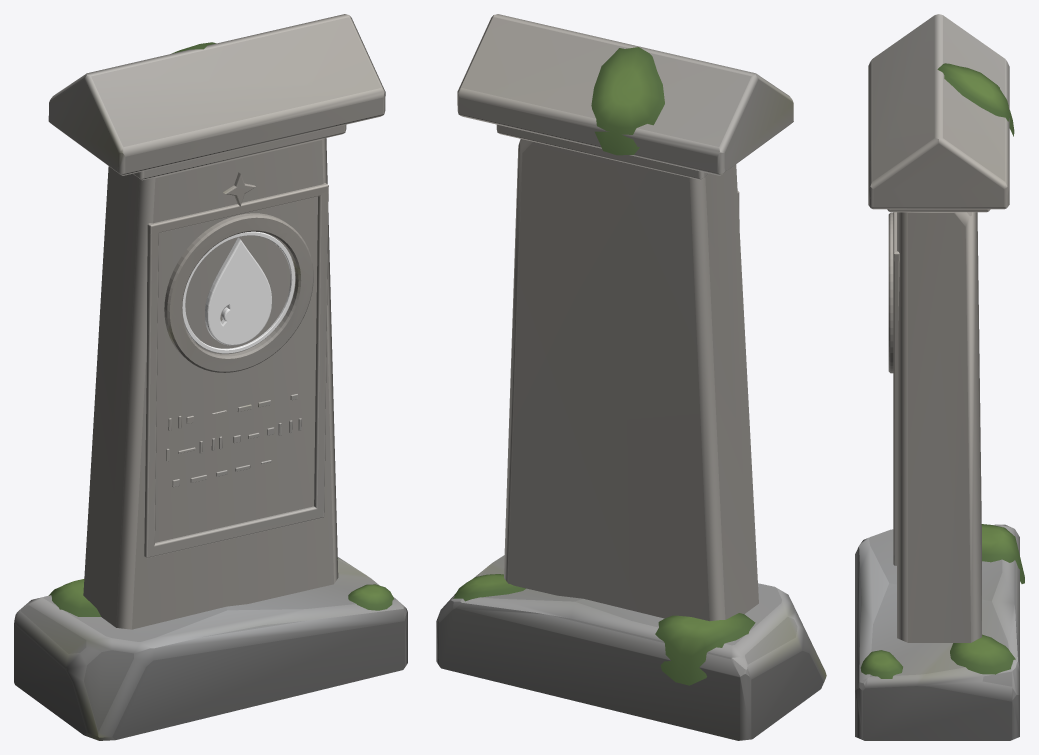
The model's file is stele_water.glb.
3 renders of one model, left to right at view 1: azimuth 30°, elevation 25°; view 2: azimuth 150°, elevation 25°; view 3: azimuth 270°, elevation 25°, orthographic. The views are drawn at different scales.
Parts seen in each view (by area): view 1: stele_water_LOD0; view 2: stele_water_LOD0; view 3: stele_water_LOD0.
Part boxes in pixels (box(x1,y1,x2,y2)): stele_water_LOD0: box(14, 14, 407, 740); stele_water_LOD0: box(436, 14, 826, 740); stele_water_LOD0: box(855, 14, 1024, 740).
Size of what is drawn, in the model's own units: 1.32 by 2.52 by 0.6487.
